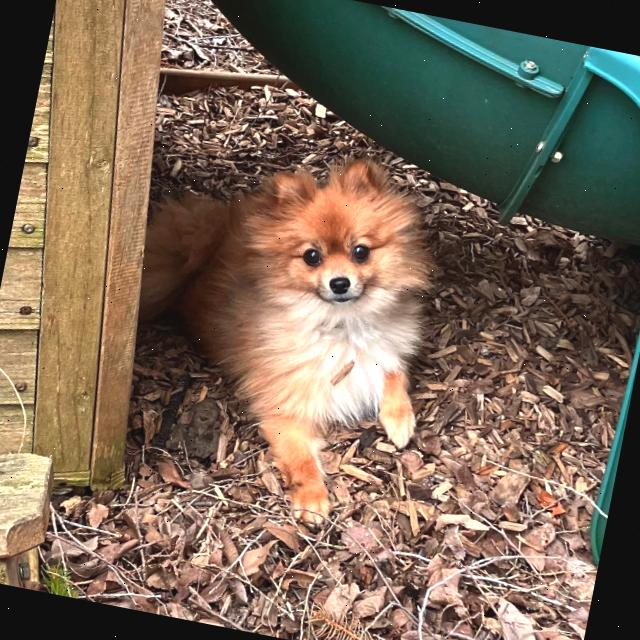pomeranian_dog: (195, 123, 454, 370)
